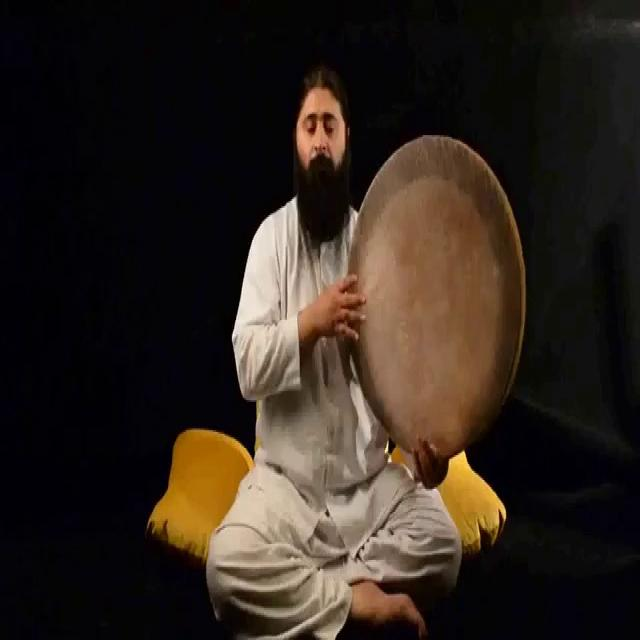Daf: (342, 131, 526, 461)
